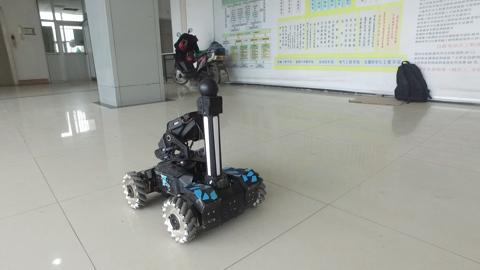bag: (386, 53, 441, 112)
chariot: (98, 79, 279, 249)
